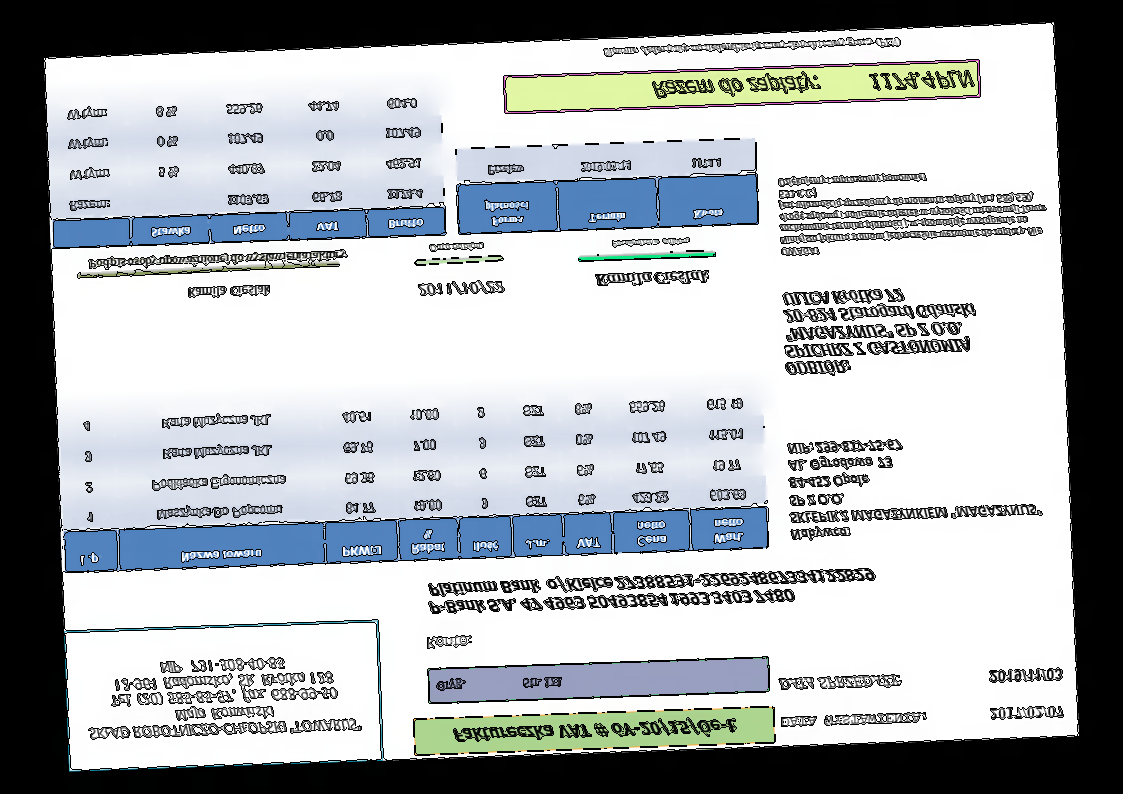Table: (58, 384, 769, 575), (47, 84, 448, 250), (454, 136, 760, 237)
TextBox: (785, 431, 1045, 544), (776, 166, 1051, 258), (84, 653, 365, 743), (425, 565, 876, 618), (782, 283, 982, 378), (650, 66, 976, 105), (450, 713, 740, 747), (602, 34, 903, 61), (85, 246, 349, 273), (777, 708, 929, 731), (434, 672, 563, 695), (777, 672, 904, 694), (594, 267, 713, 290), (416, 278, 506, 299), (988, 702, 1066, 724), (987, 665, 1065, 687), (185, 282, 272, 300), (610, 236, 691, 250), (423, 632, 474, 651), (427, 239, 484, 254)
